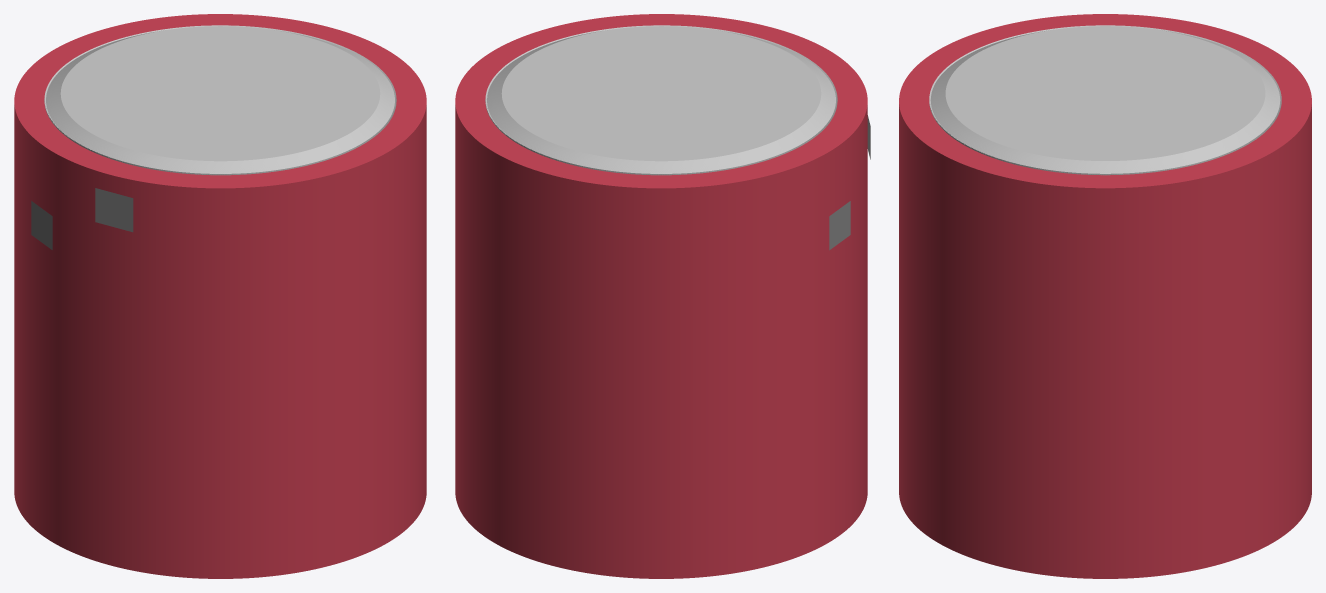
Rendered from block_tower.glb.
The picture shows the model from 3 angles, left to right: view 1: azimuth 30°, elevation 25°; view 2: azimuth 150°, elevation 25°; view 3: azimuth 270°, elevation 25°; orthographic projection.
Visible parts, largest first — view 1: Cylinder, Cylinder.001, Cube.001, Cube; view 2: Cylinder, Cylinder.001, Cube; view 3: Cylinder, Cylinder.001.
Boxes of the visible parts, box(x1,y1,x2,y2) form: Cylinder: box(14, 14, 426, 578); Cylinder.001: box(44, 25, 396, 175); Cube.001: box(95, 188, 133, 232); Cube: box(31, 201, 52, 249); Cylinder: box(455, 14, 867, 578); Cylinder.001: box(485, 25, 837, 175); Cube: box(829, 201, 850, 250); Cylinder: box(899, 14, 1311, 578); Cylinder.001: box(929, 25, 1281, 175).
Bounding box in the file's own units: 0.2856 × 0.3043 × 0.286.
